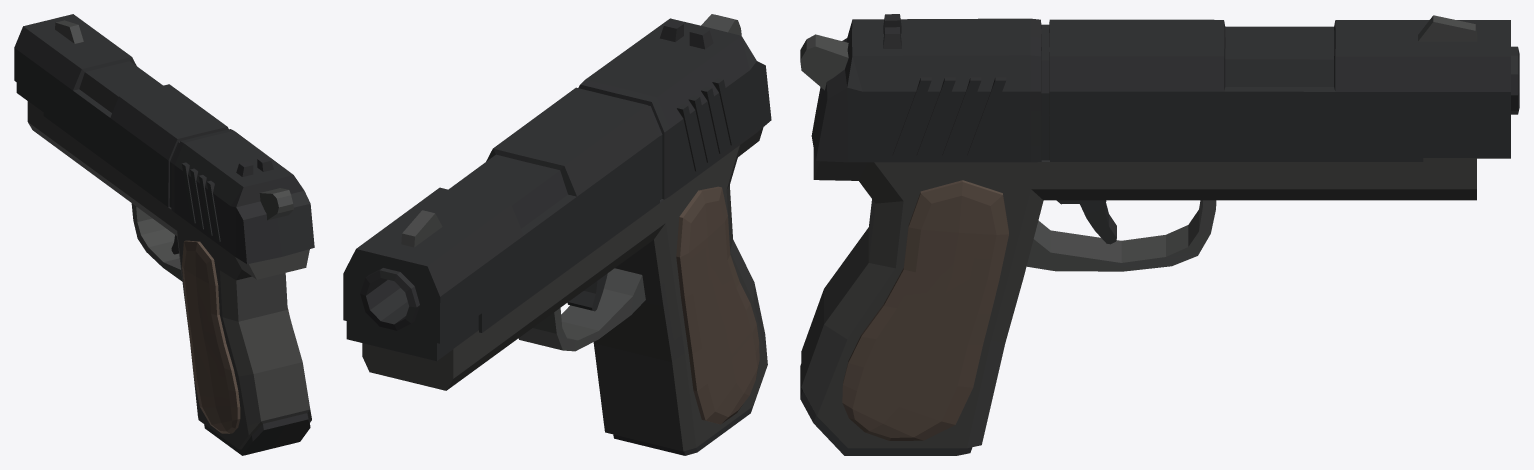
Rendered from SM_Pistol_01.fbx.
3 views of the same model, side by side, from view 1: azimuth 30°, elevation 25°; view 2: azimuth 150°, elevation 25°; view 3: azimuth 270°, elevation 25° (orthographic). The views are drawn at different scales.
Parts seen in each view (by area): view 1: SM_Pistol_01; view 2: SM_Pistol_01; view 3: SM_Pistol_01.
Boxes of the visible parts, x1=… form: SM_Pistol_01: x1=14, y1=14, x2=314, y2=455; SM_Pistol_01: x1=343, y1=14, x2=771, y2=455; SM_Pistol_01: x1=800, y1=14, x2=1519, y2=455.
Bounding box in the file's own units: 8.08 × 29.04 × 45.49.
